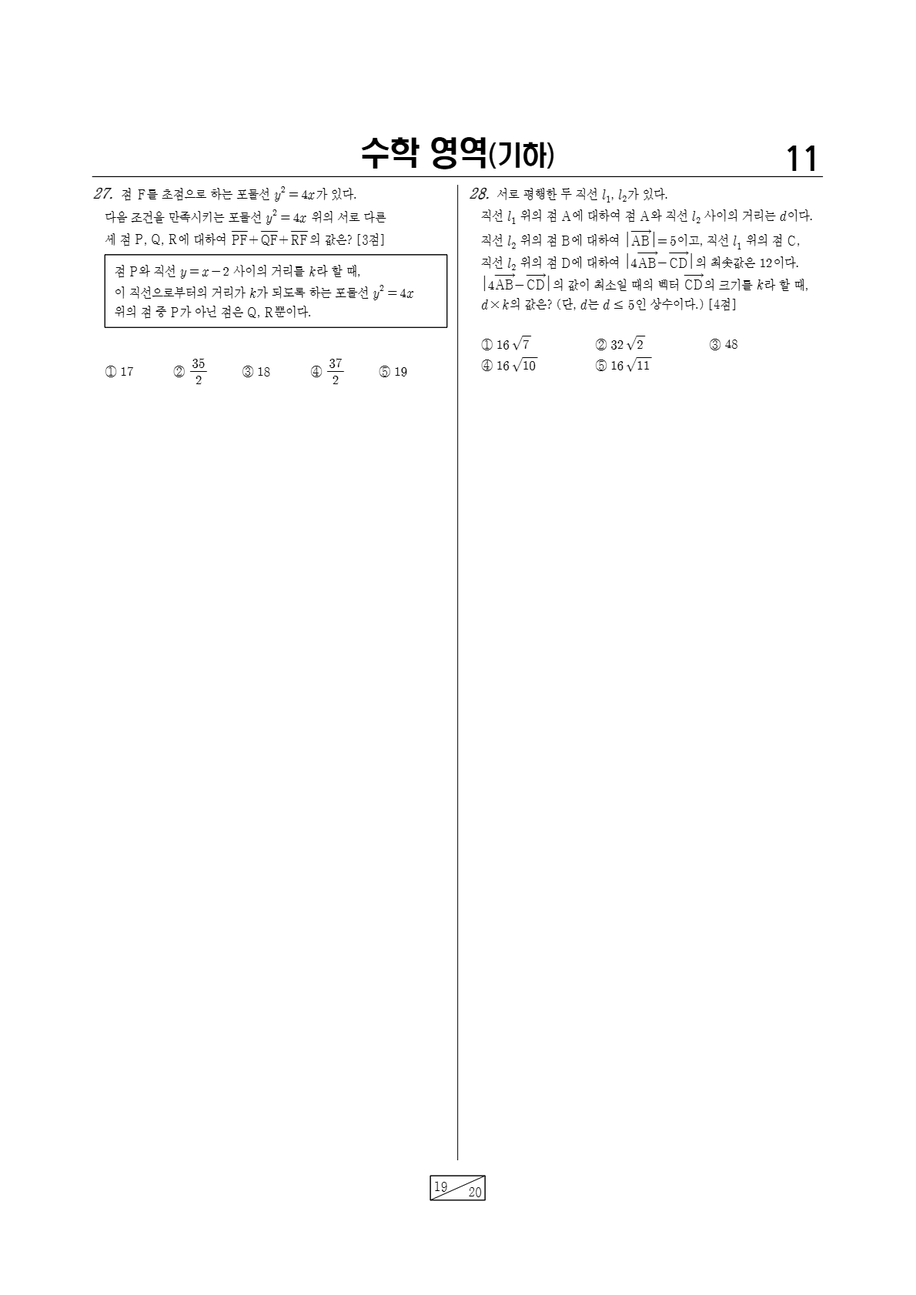opt_1: (104, 363, 119, 377), (481, 337, 493, 350)
opt_2: (173, 363, 184, 377), (596, 337, 607, 350)
opt_3: (242, 363, 252, 377), (710, 337, 720, 350)
opt_4: (310, 364, 322, 377), (481, 359, 492, 371)
opt_5: (595, 358, 607, 371), (379, 364, 389, 377)
